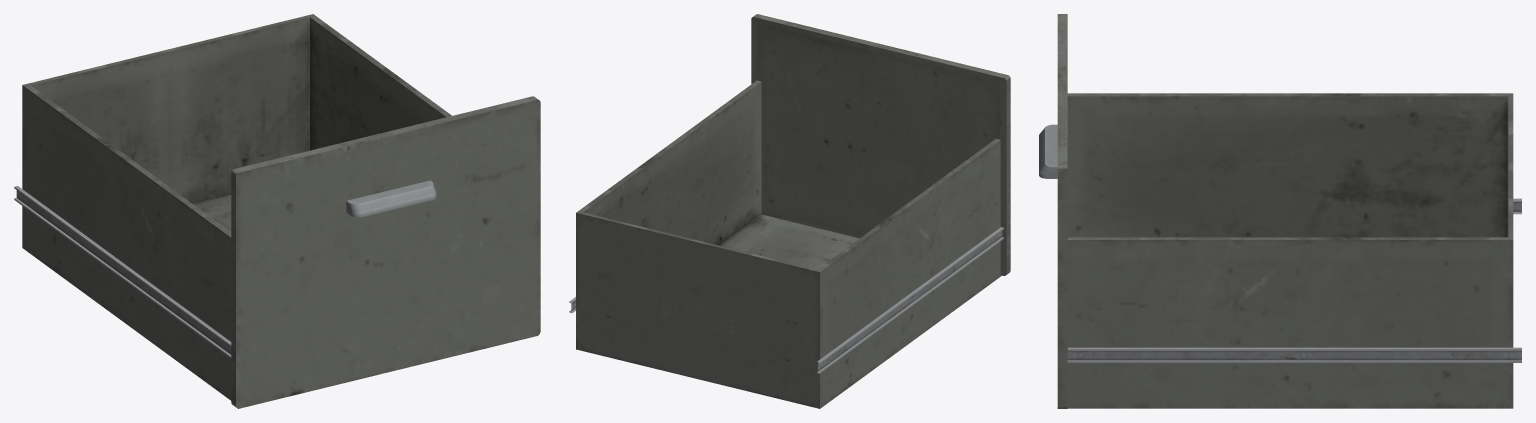
The model's file is SM_Teachers_Desk_02c.fbx.
3 renders of one model, left to right at view 1: azimuth 30°, elevation 25°; view 2: azimuth 150°, elevation 25°; view 3: azimuth 270°, elevation 25°, orthographic. The views are drawn at different scales.
Parts seen in each view (by area): view 1: SM_Teachers_Desk_02c_LOD0; view 2: SM_Teachers_Desk_02c_LOD0; view 3: SM_Teachers_Desk_02c_LOD0.
Part boxes in pixels (<box>): SM_Teachers_Desk_02c_LOD0: <box>14,14,540,408</box>; SM_Teachers_Desk_02c_LOD0: <box>569,14,1010,408</box>; SM_Teachers_Desk_02c_LOD0: <box>1039,14,1521,408</box>.
Size of the model in its own units: 51.01 by 67.8 by 38.04.
Materials: 1 (1 with a texture image).
